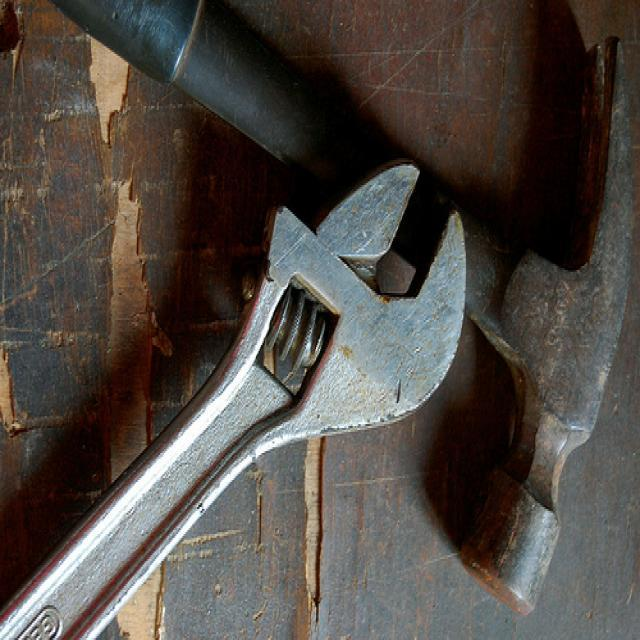hammer: (472, 0, 639, 634)
wrench: (0, 150, 484, 640)
